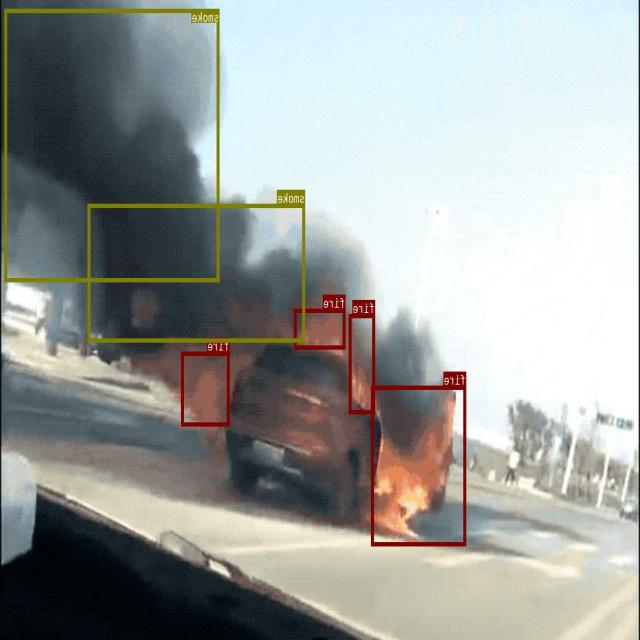fire: (372, 385, 466, 545), (182, 352, 230, 426), (350, 313, 376, 413), (294, 308, 346, 348)
smoke: (5, 8, 220, 280), (88, 203, 306, 341)
